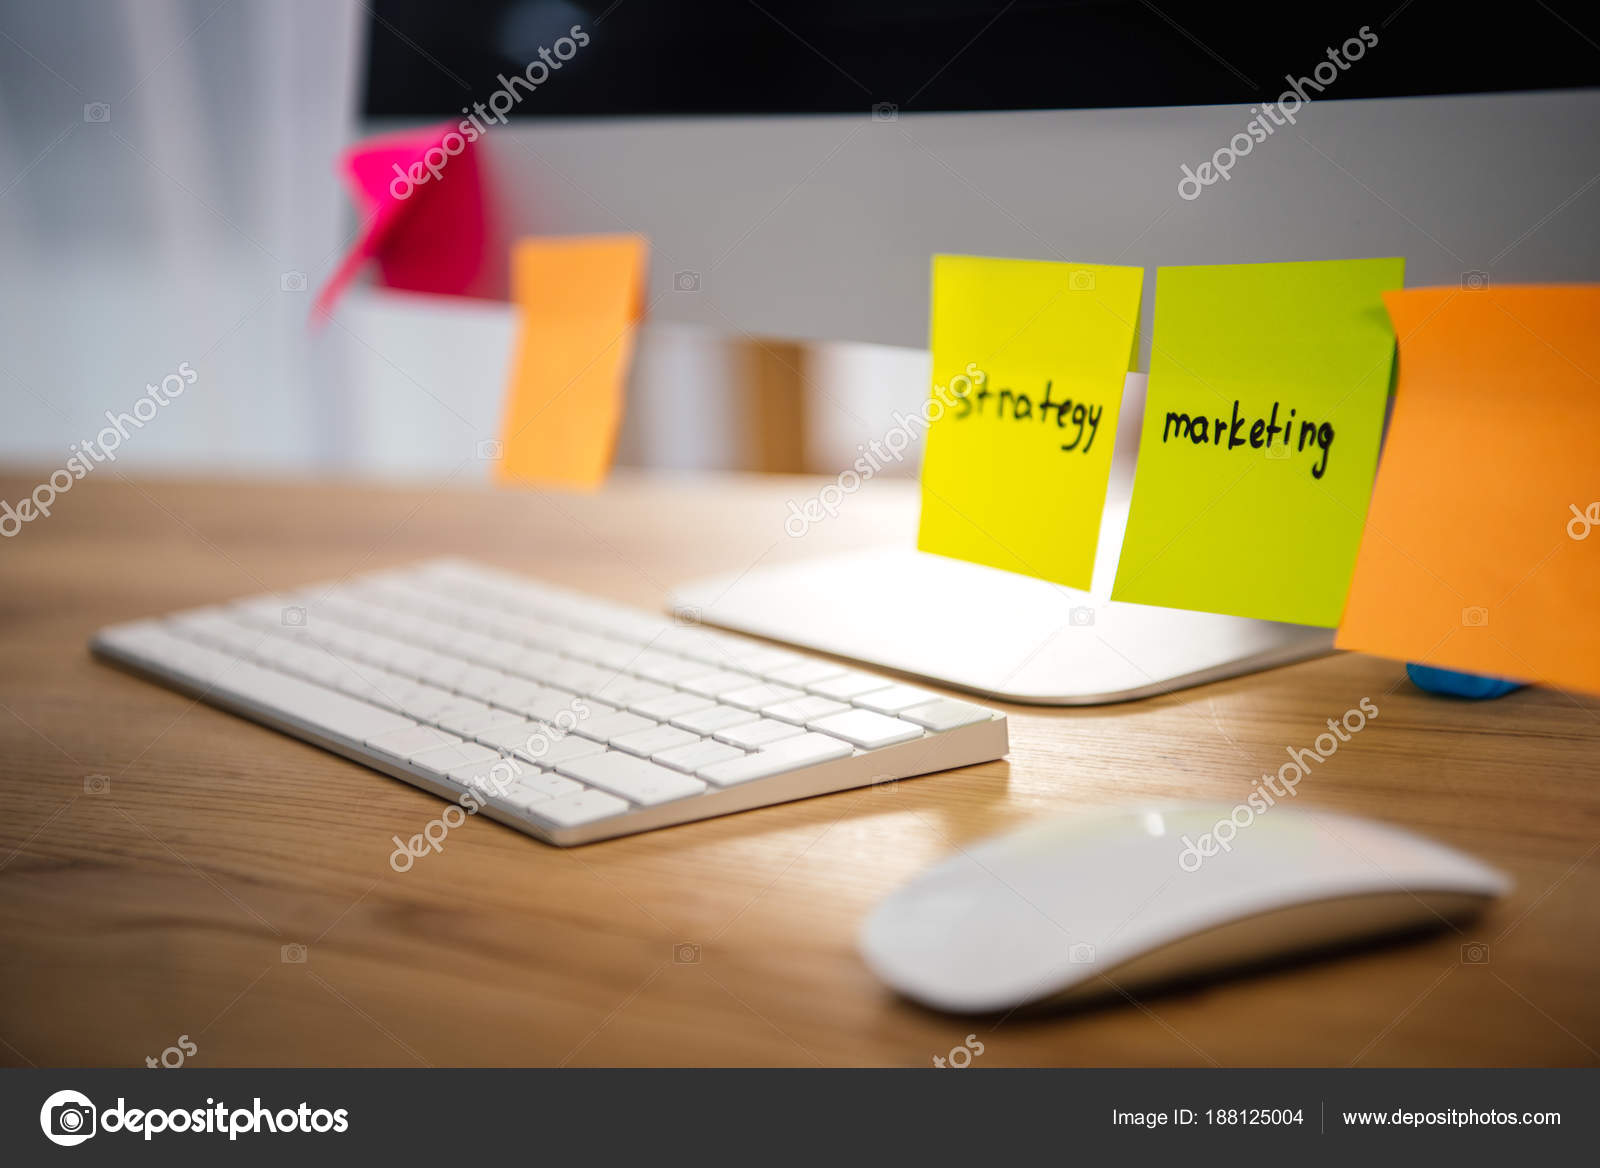Note: (1139, 256, 1401, 623), (925, 252, 1135, 572)
